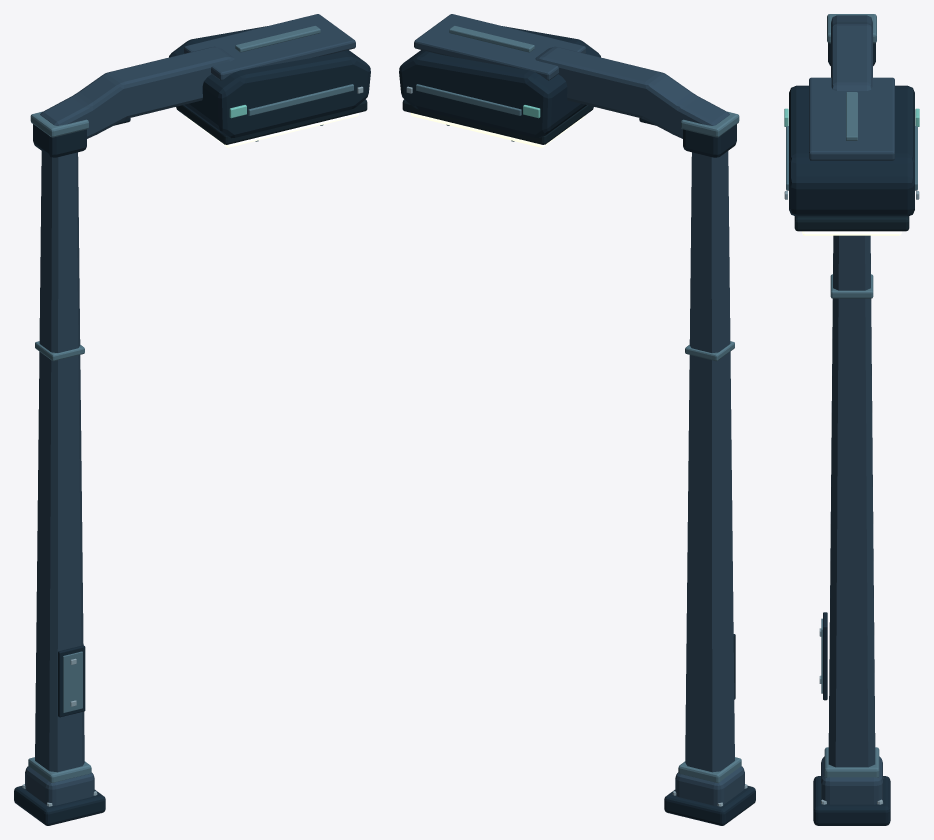
Rendered from street_light_02.fbx.
3 views of the same model, side by side, from view 1: azimuth 30°, elevation 25°; view 2: azimuth 150°, elevation 25°; view 3: azimuth 270°, elevation 25° (orthographic). The views are drawn at different scales.
Parts seen in each view (by area): view 1: CouchGuys_StreetLamp_01; view 2: CouchGuys_StreetLamp_01; view 3: CouchGuys_StreetLamp_01.
Part boxes in pixels (x1,y1,x2,y2): CouchGuys_StreetLamp_01: (14,14,370,825); CouchGuys_StreetLamp_01: (399,14,755,825); CouchGuys_StreetLamp_01: (784,14,919,825).
Bounding box in the file's own units: 254 × 551 × 82.6.
